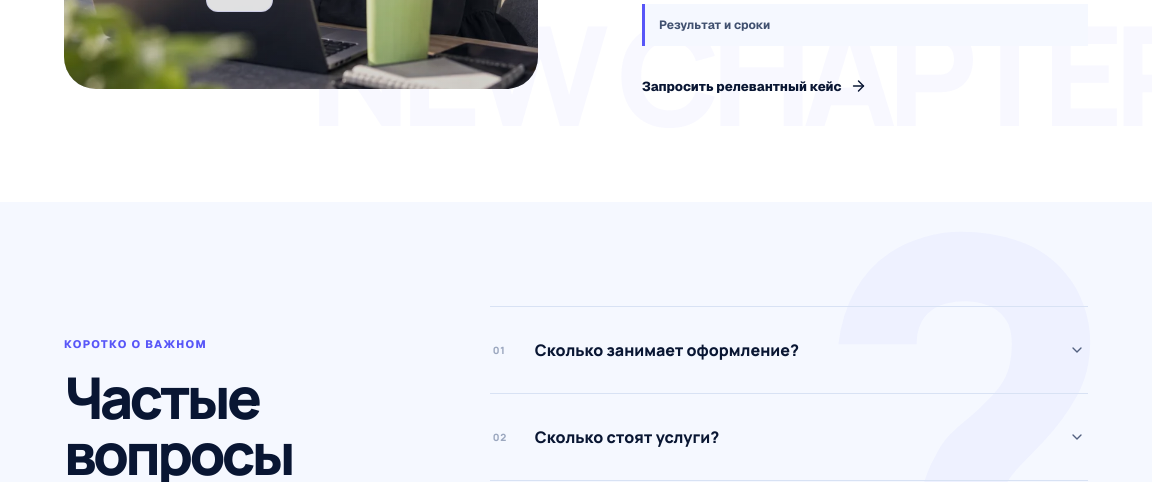
Test: Real Rabota landing › opens an FAQ answer with an accessible control
This screenshot has width=1152, height=482.
(page scrolled)
Click the button "01 Сколько занимает оформление?" at (789, 350), box [490,308,1088,394]
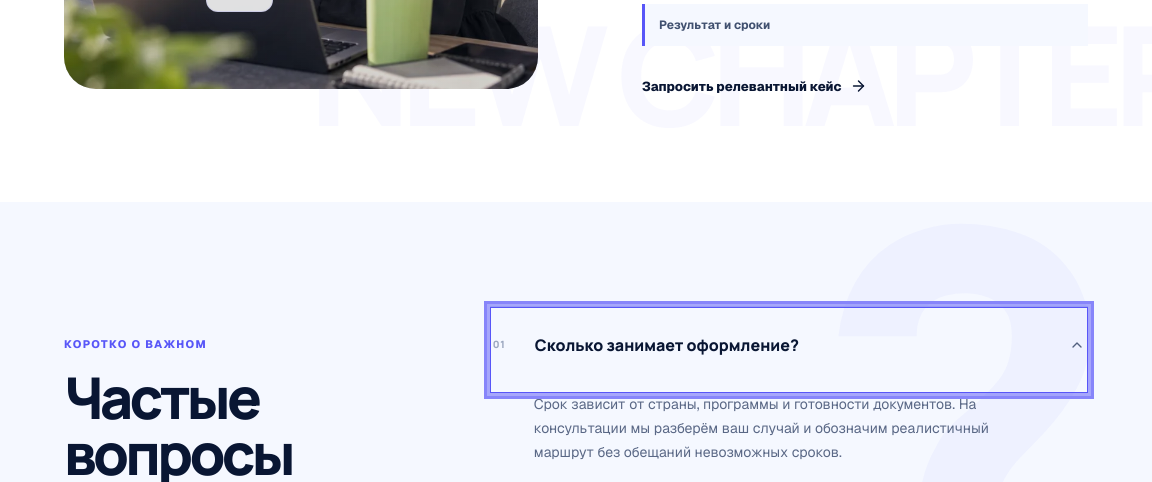
Check: the button "01 Сколько занимает оформление?" is expanded, box [490,308,1088,394]
Check: the text "Срок зависит от страны" is shown, box [534,396,989,461]
